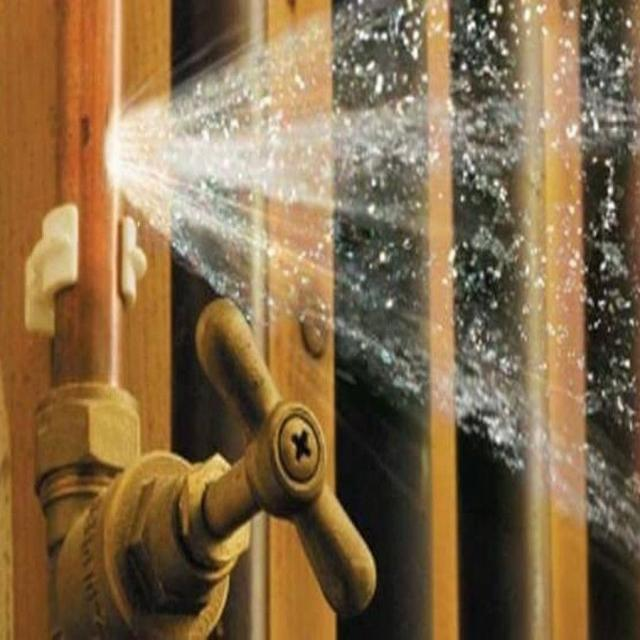leak: (119, 15, 425, 391)
